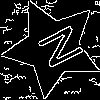N: (27, 22, 85, 76)
